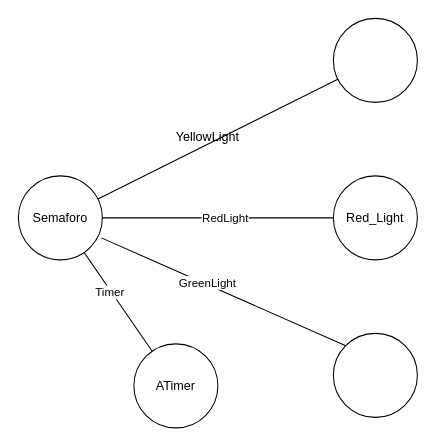
The diagram is 436 pixels wide and 446 high, and some of its shapes have lost their labels. Here are the shapes that lost their labels. From the top down, the box of each, then its label:
(332, 17, 417, 102): Yellow_Light
(332, 332, 417, 417): Green_Light
